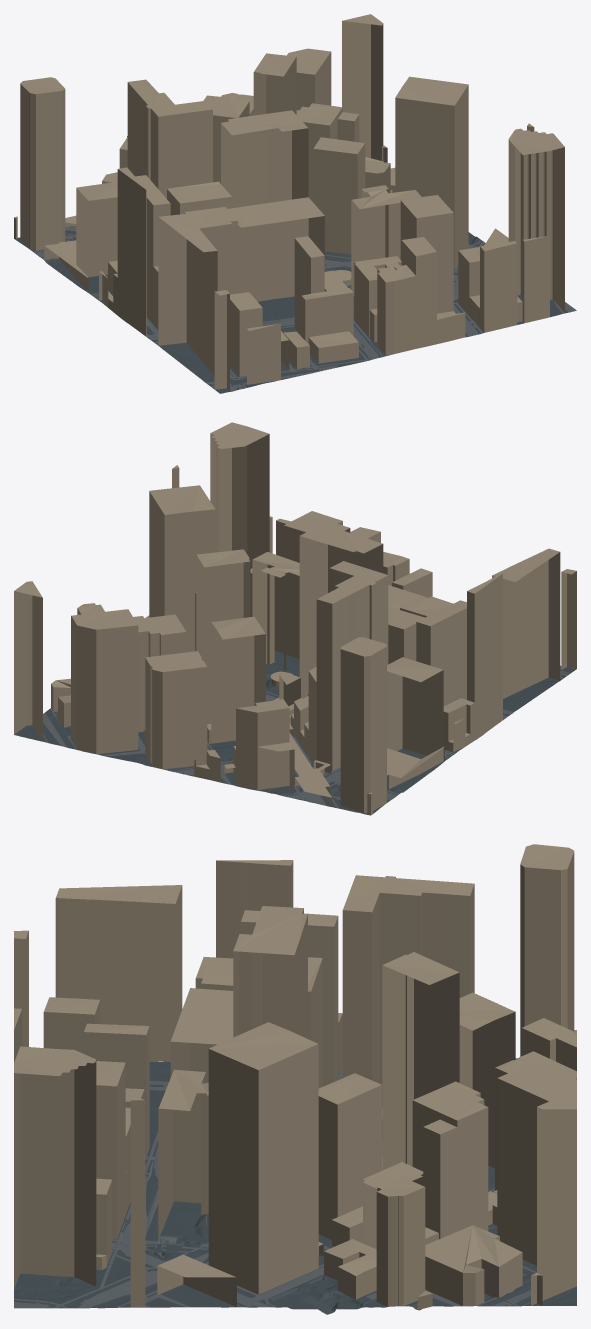
Rendered from epsg26910-1439-10892.lod0.grid-ownership-preview.glb.
3 renders of one model, top to bottom at view 1: azimuth 30°, elevation 25°; view 2: azimuth 150°, elevation 25°; view 3: azimuth 270°, elevation 25°, orthographic. The views are drawn at different scales.
Visible parts, largest first — view 1: epsg26910-1439-10892-lod0; view 2: epsg26910-1439-10892-lod0; view 3: epsg26910-1439-10892-lod0.
Boxes of the visible parts, bbox=[...] form: epsg26910-1439-10892-lod0: bbox=[14, 14, 576, 393]; epsg26910-1439-10892-lod0: bbox=[14, 422, 576, 815]; epsg26910-1439-10892-lod0: bbox=[14, 844, 576, 1314].
Bounding box in the file's own units: 384 × 184 × 384.
